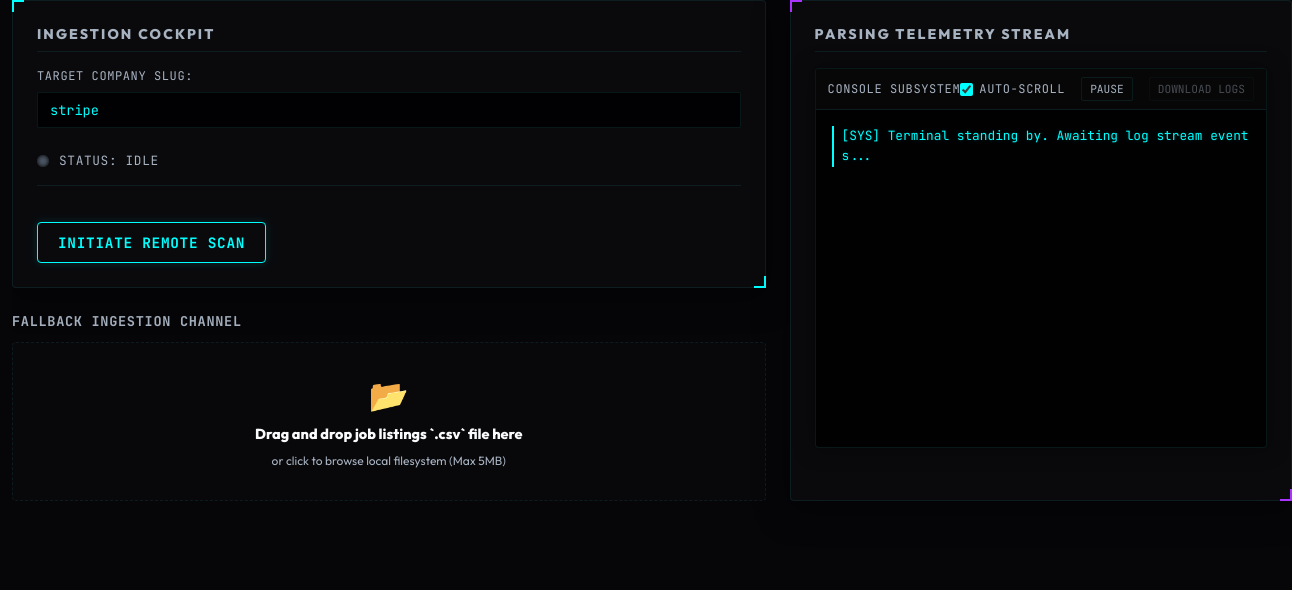
Ingestion Cockpit View & TerminalConsole › handles 3.0s connection timeout and displays timeout banner
Click the button "INITIATE REMOTE SCAN" at (152,242), box [37,222,266,263]
Wait 3000 ms
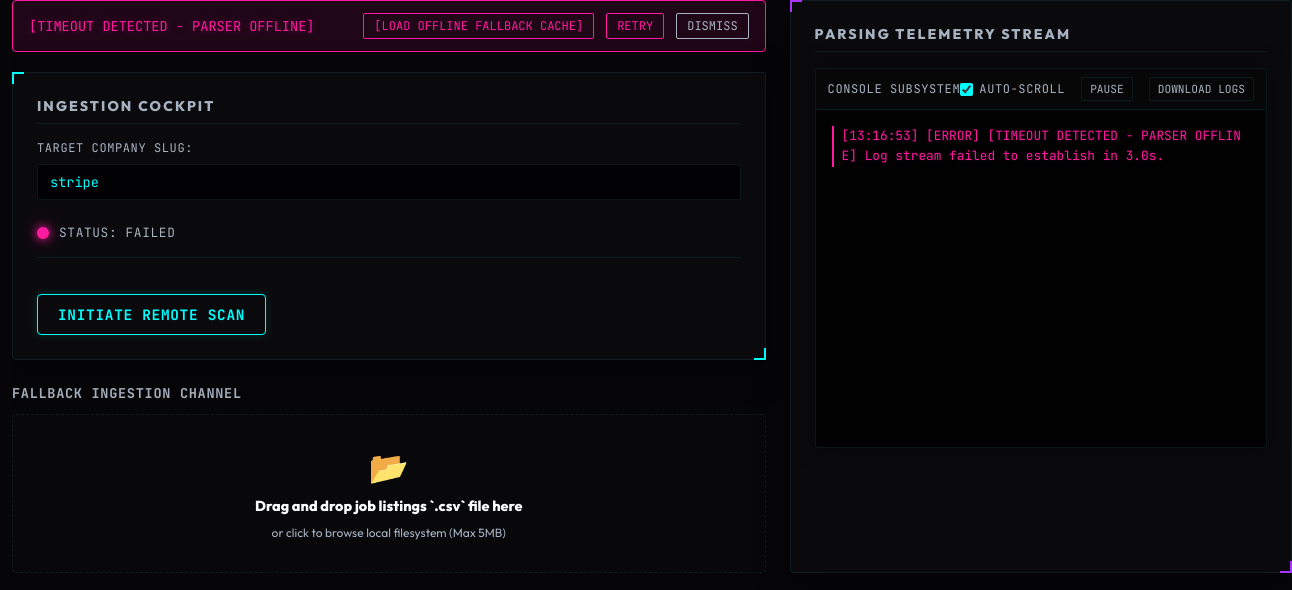
Expected: the text "[TIMEOUT DETECTED - PARSER OFFLINE]" is shown, [29,17,314,35]
Expected: the text "STATUS: FAILED" is shown, [59,224,176,241]
